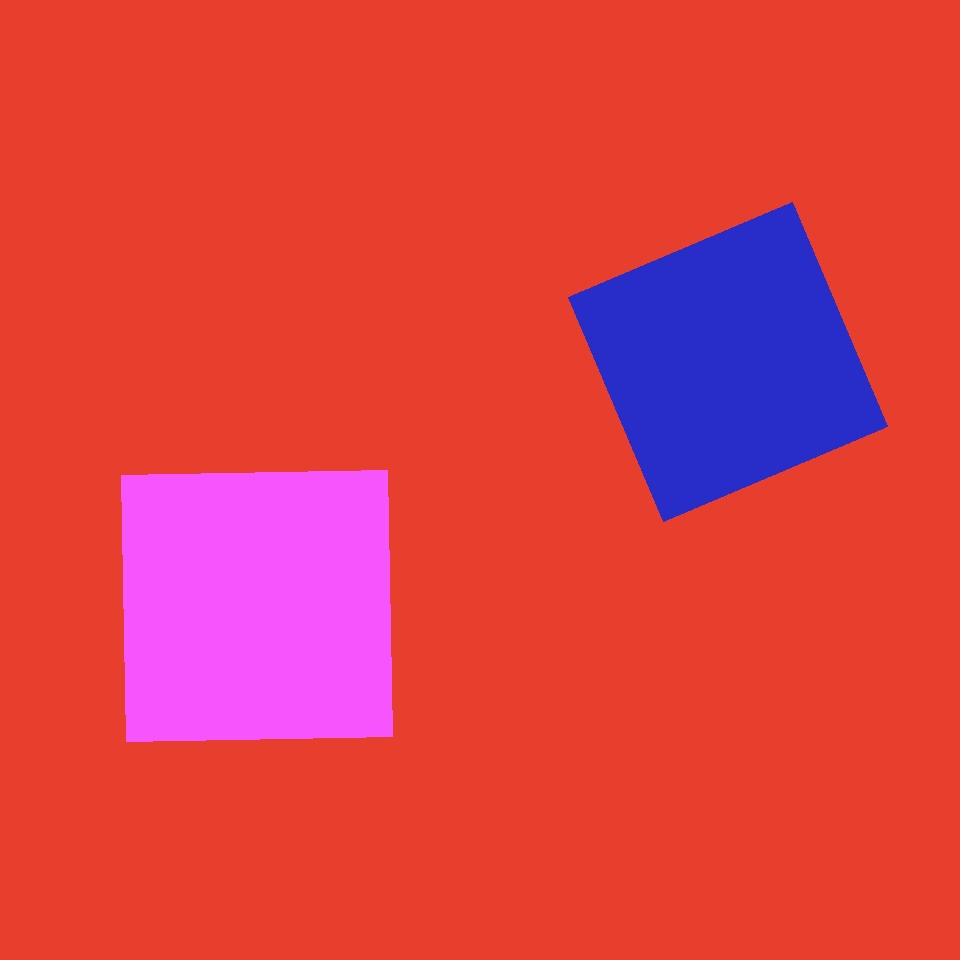circle: (21, 522, 125, 630)
square: (172, 199, 512, 539), (2, 493, 336, 828), (568, 202, 888, 522), (103, 575, 396, 869), (122, 470, 392, 742)
triangle: (704, 243, 940, 479)
